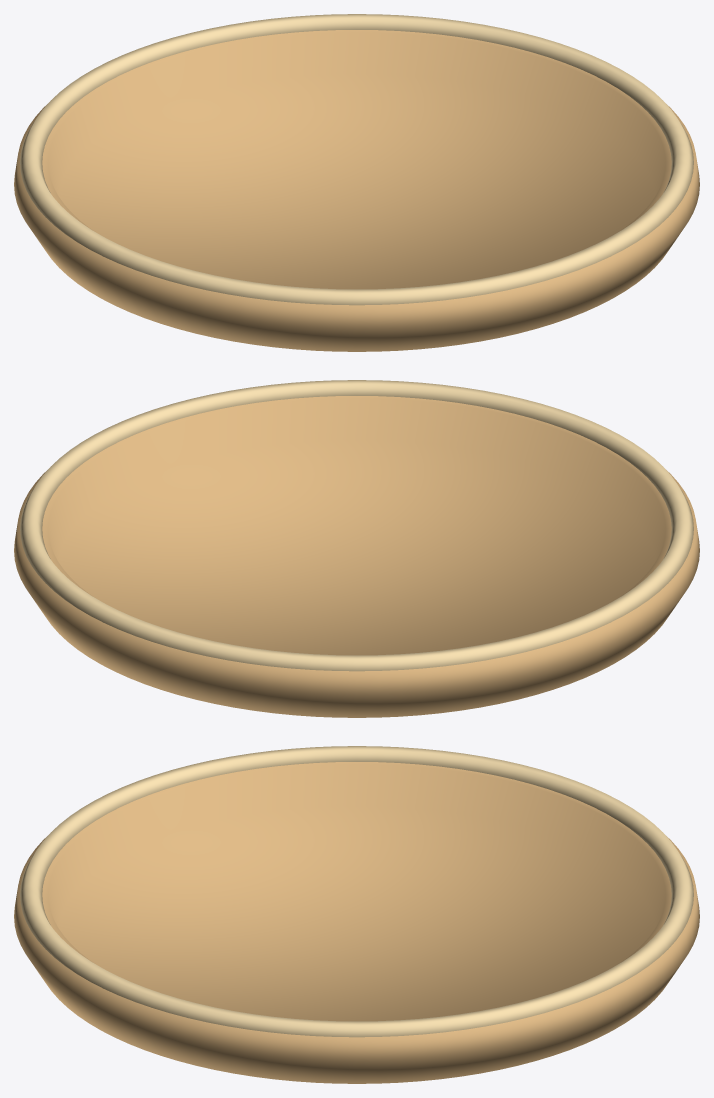
The model's file is round_breakfast_r4.glb.
3 views of the same model, one above another, from view 1: azimuth 30°, elevation 25°; view 2: azimuth 150°, elevation 25°; view 3: azimuth 270°, elevation 25° (orthographic).
Parts seen in each view (by area): view 1: round_breakfast_r4; view 2: round_breakfast_r4; view 3: round_breakfast_r4.
Part boxes in pixels (x1,y1,x2,y2): round_breakfast_r4: [14, 14, 699, 351]; round_breakfast_r4: [14, 380, 699, 717]; round_breakfast_r4: [14, 746, 699, 1083].
Bounding box in the file's own units: 4 × 0.3963 × 4.
